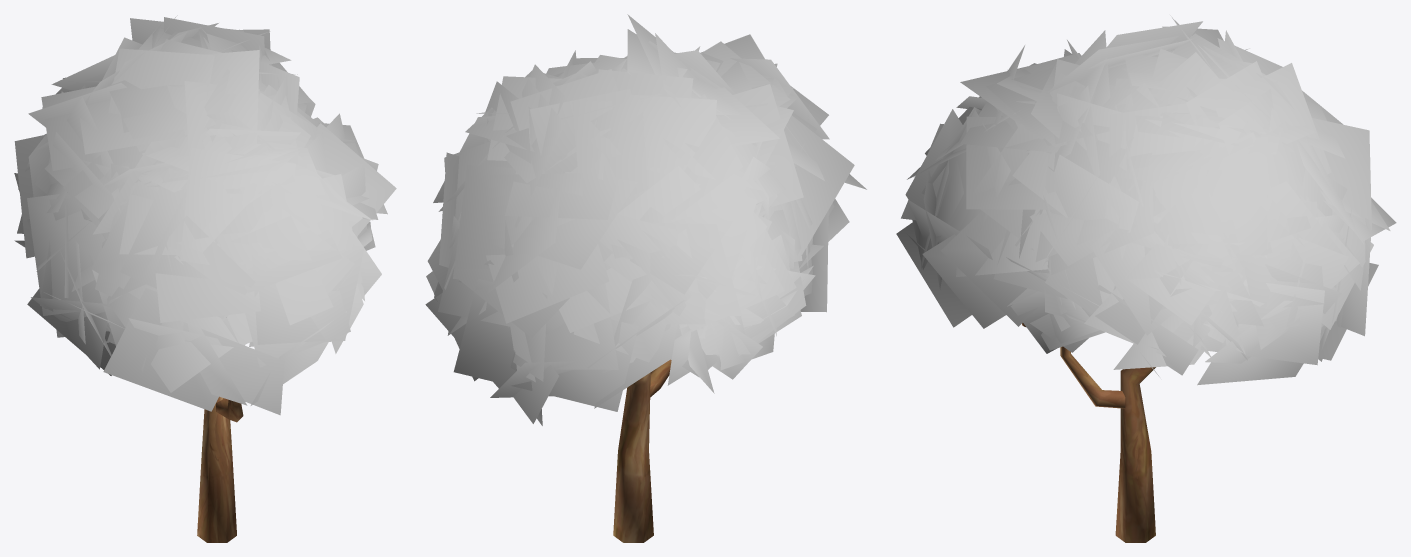
File: tree2.fbx
The picture shows the model from 3 angles, left to right: view 1: azimuth 30°, elevation 25°; view 2: azimuth 150°, elevation 25°; view 3: azimuth 270°, elevation 25°; orthographic projection.
Visible parts, largest first — view 1: Cylinder.019; view 2: Cylinder.019; view 3: Cylinder.019.
Part boxes in pixels (x1,y1,x2,y2): Cylinder.019: (14,15,396,542); Cylinder.019: (425,14,866,542); Cylinder.019: (896,15,1396,542).
Bounding box in the file's own units: 288 × 402 × 366.
